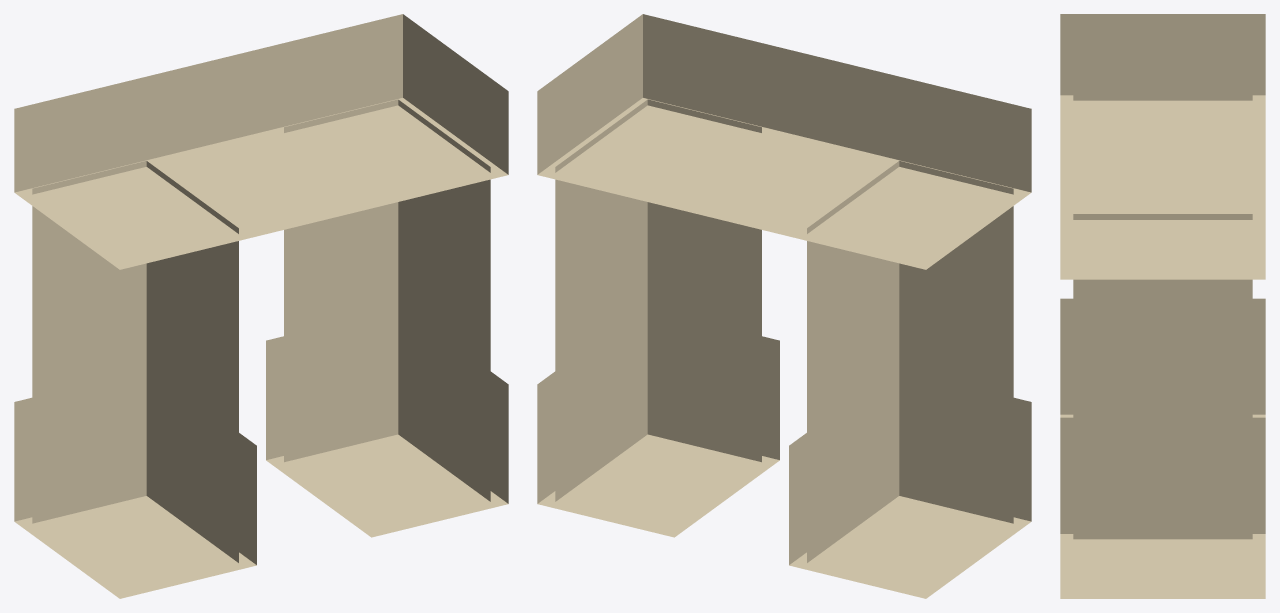
Rendered from jawa-gapura.glb.
3 views of the same model, side by side, from view 1: azimuth 30°, elevation 25°; view 2: azimuth 150°, elevation 25°; view 3: azimuth 270°, elevation 25° (orthographic). The views are drawn at different scales.
Visible parts, largest first — view 1: jawa-gapura.glb; view 2: jawa-gapura.glb; view 3: jawa-gapura.glb.
Boxes of the visible parts, x1,y1,x2,y2 form: jawa-gapura.glb: (14, 14, 508, 598); jawa-gapura.glb: (537, 14, 1031, 598); jawa-gapura.glb: (1060, 14, 1265, 598).
Size of the model in its own units: 1.7 by 1.73 by 0.8.
